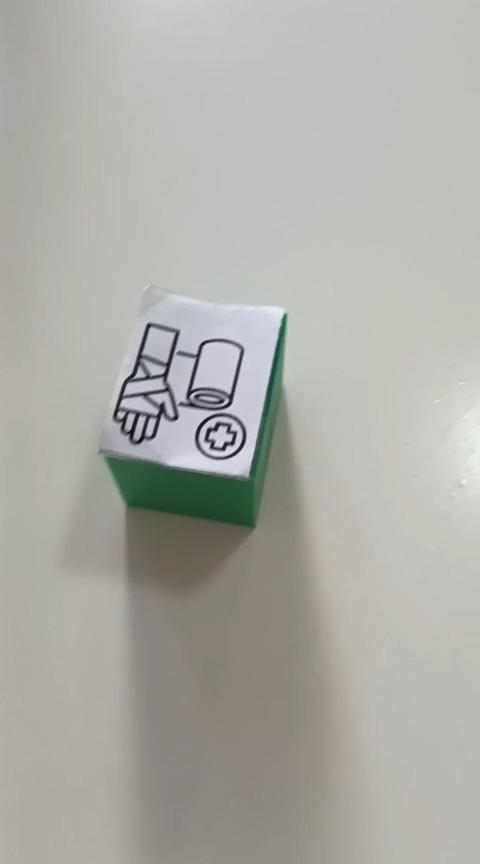Bandages: (97, 282, 288, 528)
